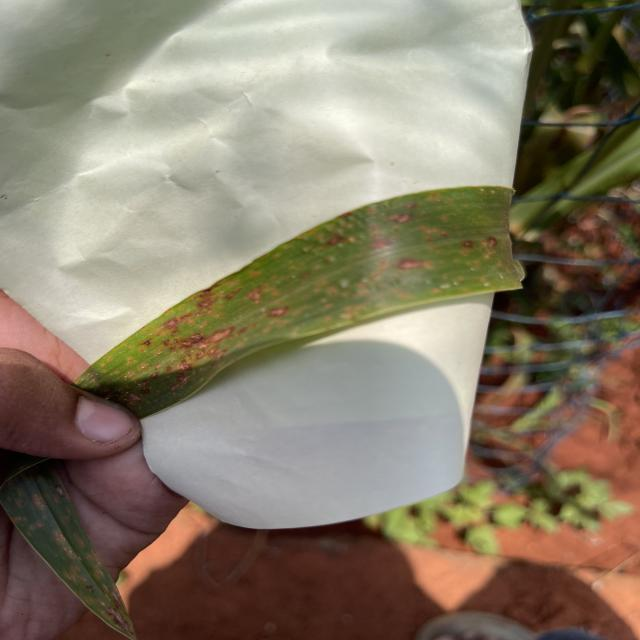millet_rust: (74, 186, 523, 418)
